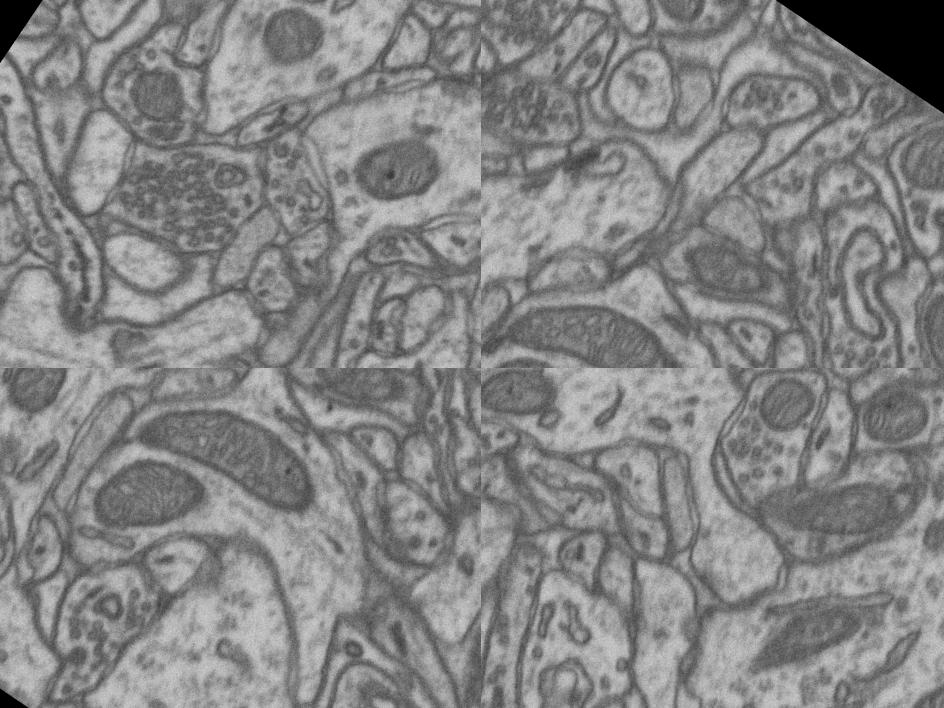mitochondria: (135, 368, 337, 540), (754, 426, 924, 594), (501, 259, 710, 368), (724, 561, 878, 708), (78, 430, 225, 574), (327, 108, 452, 232), (673, 219, 791, 328), (101, 40, 206, 142), (838, 368, 944, 469), (229, 0, 334, 92), (735, 368, 838, 452), (481, 368, 574, 453), (303, 368, 418, 428), (887, 109, 944, 206), (0, 368, 87, 429), (626, 0, 734, 38), (898, 282, 944, 368), (481, 333, 591, 368)
